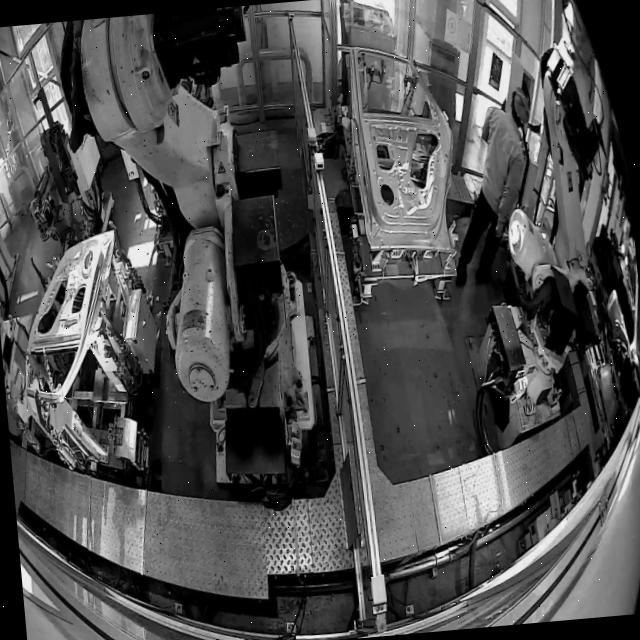Person: (438, 80, 546, 288)
